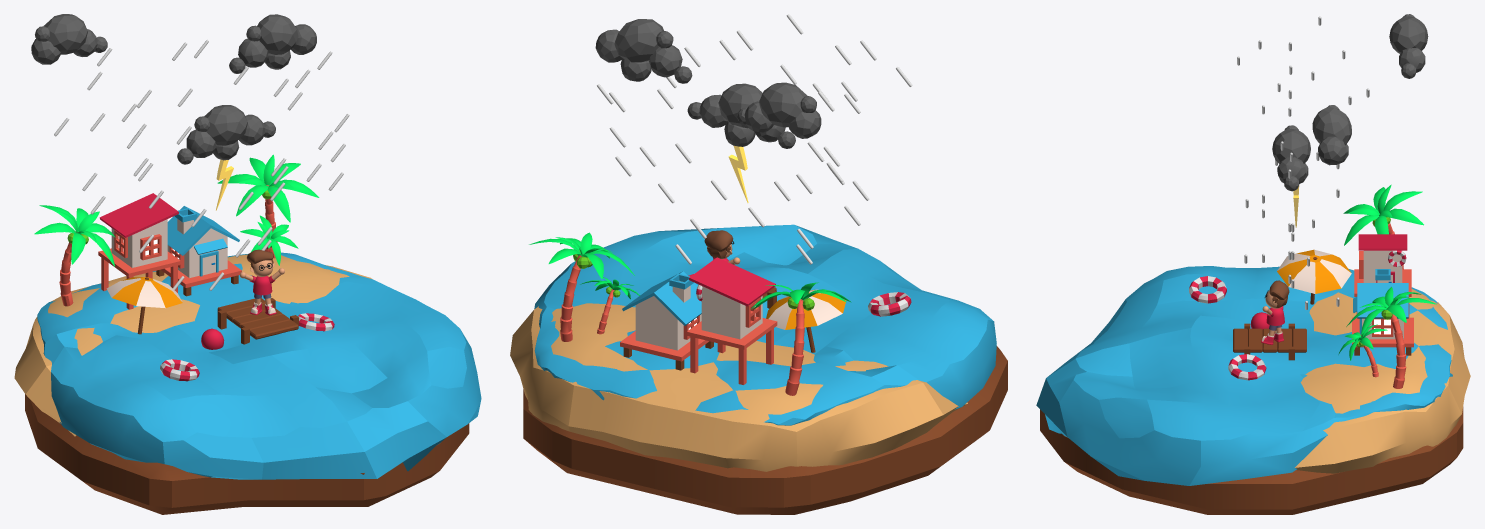
3 renders of one model, left to right at view 1: azimuth 30°, elevation 25°; view 2: azimuth 150°, elevation 25°; view 3: azimuth 270°, elevation 25°, orthographic. The views are drawn at different scales.
Visible parts, largest first — view 1: Plane.005, Plane.013, Plane.012, Icosphere, Icosphere.012, Cube.012, Icosphere.007, Plane.001, Plane.006, Cylinder.003, Cube.016, Cube.004 (+8 smaller); view 2: Plane.005, Plane.012, Plane.013, Cube.012, Icosphere.012, Icosphere.007, Icosphere, Cube.003, Cylinder.003, Cube.004, Plane.001, Cube.010 (+6 smaller); view 3: Plane.005, Plane.012, Plane.013, Cylinder.003, Icosphere.012, Icosphere, Plane.006, Icosphere.007, Cube.012, Cube.016, Plane.001, Cube.004 (+4 smaller).
Boxes of the visible parts, box(x1,y1,x2,y2) form: Plane.005: box(37, 252, 481, 479); Plane.013: box(25, 394, 469, 514); Plane.012: box(14, 254, 372, 436); Icosphere: box(177, 105, 275, 164); Icosphere.012: box(229, 14, 316, 73); Cube.012: box(99, 193, 178, 267); Icosphere.007: box(31, 14, 107, 64); Plane.001: box(217, 154, 319, 222); Plane.006: box(34, 205, 115, 266); Cylinder.003: box(106, 277, 182, 308); Cube.016: box(217, 298, 298, 339); Cube.004: box(167, 206, 239, 255); Plane.005: box(534, 224, 996, 425); Plane.012: box(510, 303, 967, 471); Plane.013: box(523, 346, 1007, 514); Cube.012: box(689, 257, 775, 339); Icosphere.012: box(595, 19, 692, 83); Icosphere.007: box(737, 82, 821, 138); Icosphere: box(687, 83, 795, 148); Cube.003: box(635, 296, 701, 350); Cylinder.003: box(766, 289, 846, 329); Cube.004: box(622, 271, 701, 325); Plane.001: box(529, 232, 634, 278); Cube.010: box(687, 318, 777, 349); Plane.005: box(1036, 266, 1452, 485); Plane.012: box(1295, 268, 1470, 473); Plane.013: box(1040, 407, 1463, 514); Cylinder.003: box(1277, 249, 1351, 293); Icosphere.012: box(1312, 105, 1351, 165); Icosphere: box(1272, 125, 1310, 191); Plane.006: box(1343, 184, 1423, 245); Icosphere.007: box(1389, 14, 1428, 78); Cube.012: box(1358, 234, 1407, 282); Cube.016: box(1233, 328, 1306, 352); Plane.001: box(1346, 286, 1436, 334); Cube.004: box(1357, 283, 1408, 318).
Size of the model in its own units: 0.3959 by 0.3711 by 0.3974.
